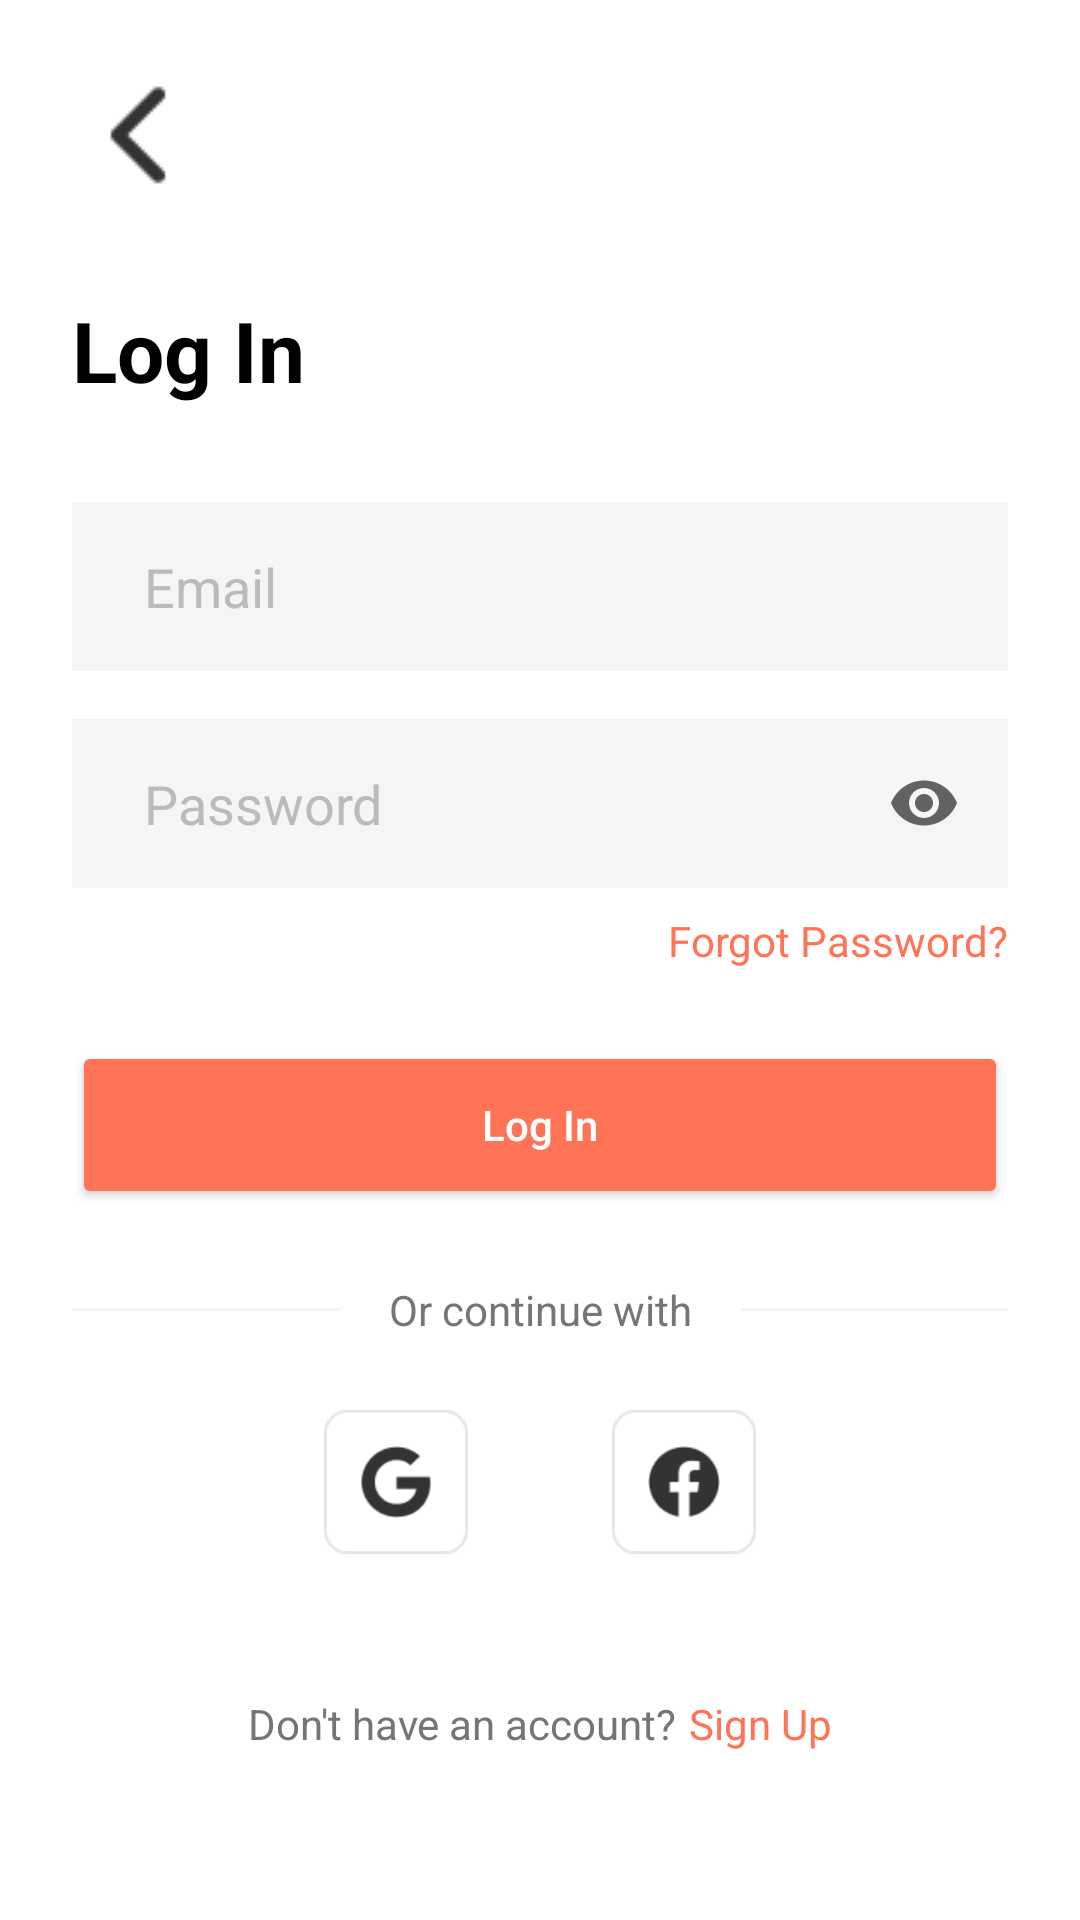

Named icons in this screenshot (1080px×1920px) and their bounding boxes, (x1=x1, y1=y1, x2=x2, y2=y2):
Back: (x1=110, y1=86, x2=166, y2=184)
